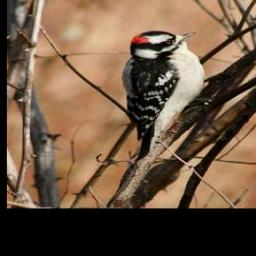Woodpecker: (123, 30, 211, 162)
